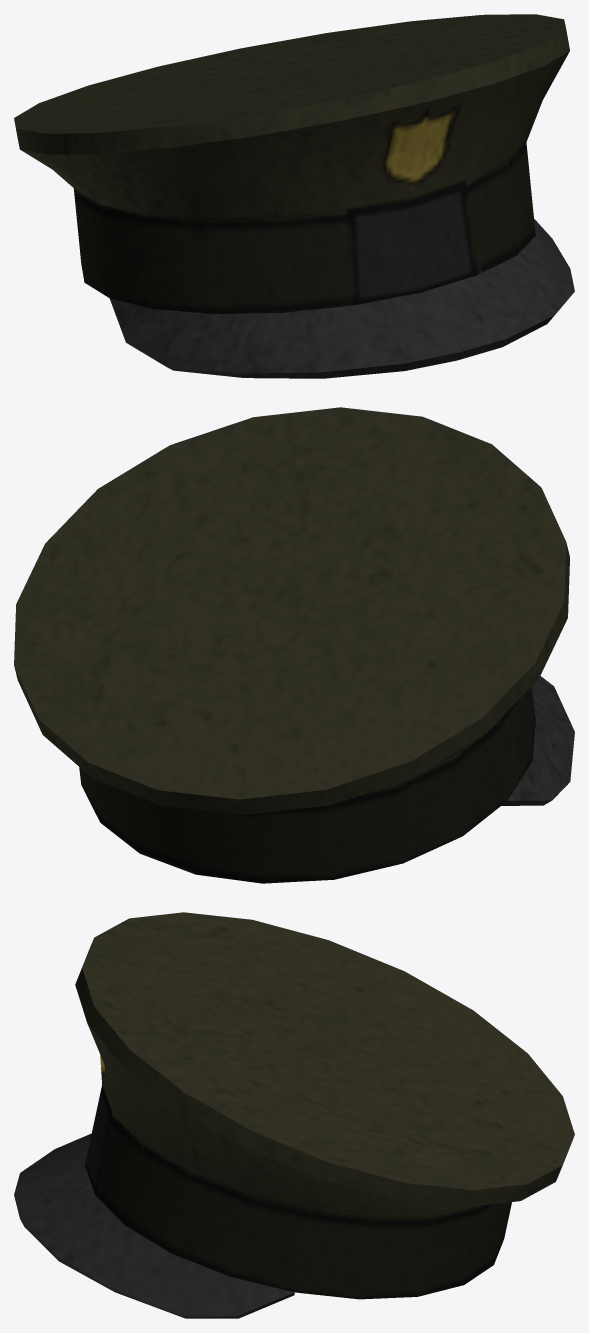
File: hat_general.fbx
The picture shows the model from 3 angles, top to bottom: view 1: azimuth 30°, elevation 25°; view 2: azimuth 150°, elevation 25°; view 3: azimuth 270°, elevation 25°; orthographic projection. The views are drawn at different scales.
Visible parts, largest first — view 1: generalhat:Mesh; view 2: generalhat:Mesh; view 3: generalhat:Mesh.
Boxes of the visible parts, x1=… form: generalhat:Mesh: x1=14, y1=14, x2=574, y2=378; generalhat:Mesh: x1=14, y1=407, x2=574, y2=883; generalhat:Mesh: x1=14, y1=912, x2=574, y2=1318.
Size of the model in its own units: 7.69 by 4.37 by 8.2.
